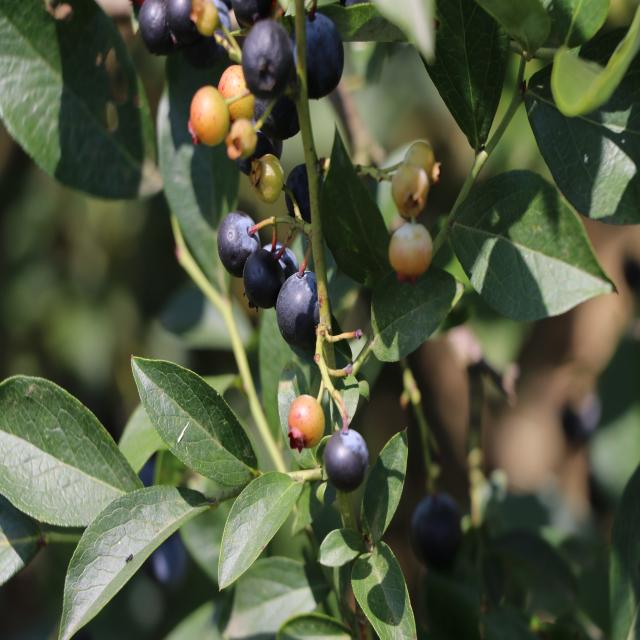blueberry: (276, 271, 338, 355), (290, 11, 344, 103), (240, 19, 293, 94), (409, 496, 462, 562), (250, 84, 307, 140), (239, 248, 289, 307), (214, 214, 260, 278), (322, 427, 368, 491), (286, 162, 330, 224), (234, 114, 286, 166), (138, 0, 186, 55)
blueberry-halfripe: (186, 81, 232, 143), (287, 392, 326, 454), (388, 223, 434, 272), (217, 67, 255, 122)
blueberry-unripe: (389, 161, 431, 219), (399, 138, 442, 183), (250, 150, 285, 204)
